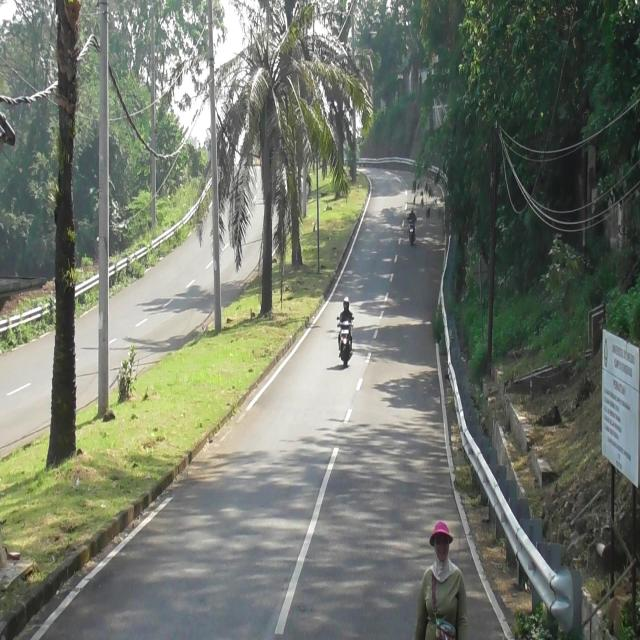motorcycle: (338, 318, 353, 368), (408, 220, 416, 246)
person: (339, 297, 354, 325), (407, 207, 417, 222)
rider_region: (338, 293, 355, 364), (407, 204, 419, 243)
